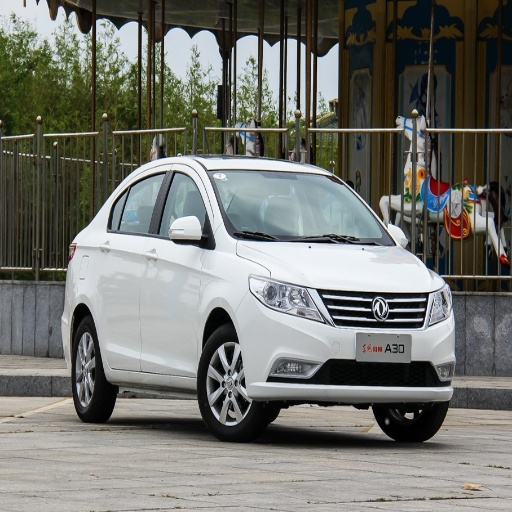front_bumper: (237, 289, 452, 398)
front_right_door: (141, 166, 210, 376)
front_right_light: (250, 271, 324, 320)
hood: (235, 240, 440, 292)
